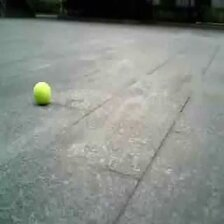tennis: (33, 82, 52, 104)
